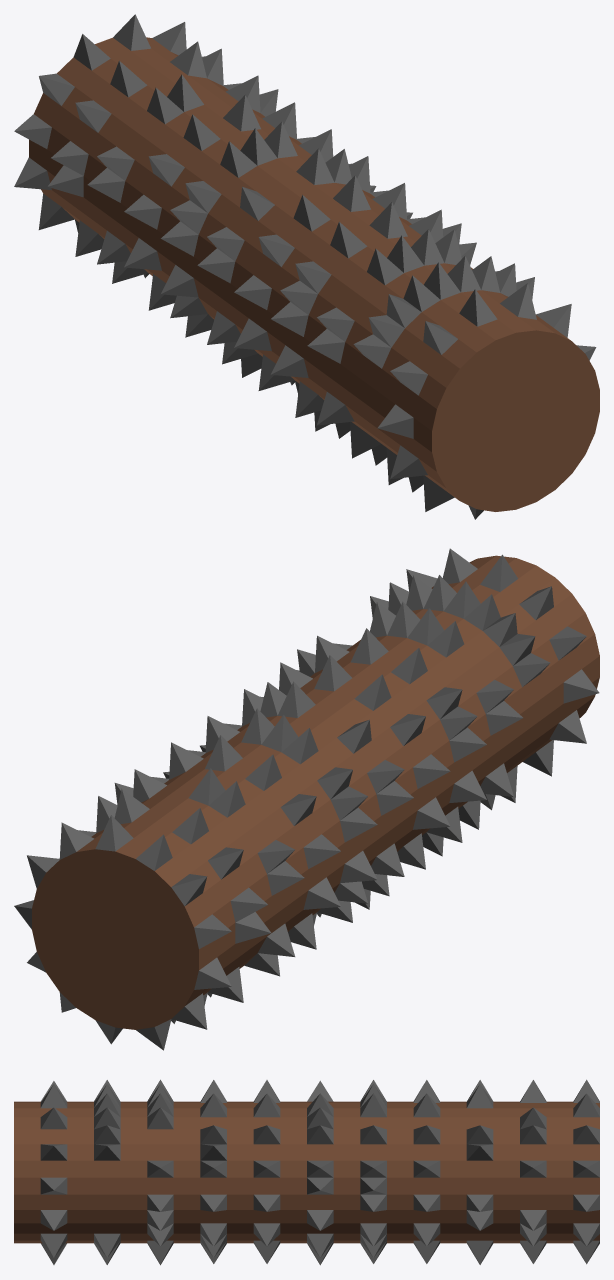
Rendered from big log.fbx.
The picture shows the model from 3 angles, top to bottom: view 1: azimuth 30°, elevation 25°; view 2: azimuth 150°, elevation 25°; view 3: azimuth 270°, elevation 25°; orthographic projection. The views are drawn at different scales.
Parts seen in each view (by area): view 1: Cylinder; view 2: Cylinder; view 3: Cylinder.
Part boxes in pixels (x1=…): Cylinder: x1=14, y1=14, x2=599, y2=519; Cylinder: x1=14, y1=548, x2=599, y2=1050; Cylinder: x1=14, y1=1079, x2=599, y2=1265.
Bounding box in the file's own units: 11.31 × 11.23 × 35.53.
